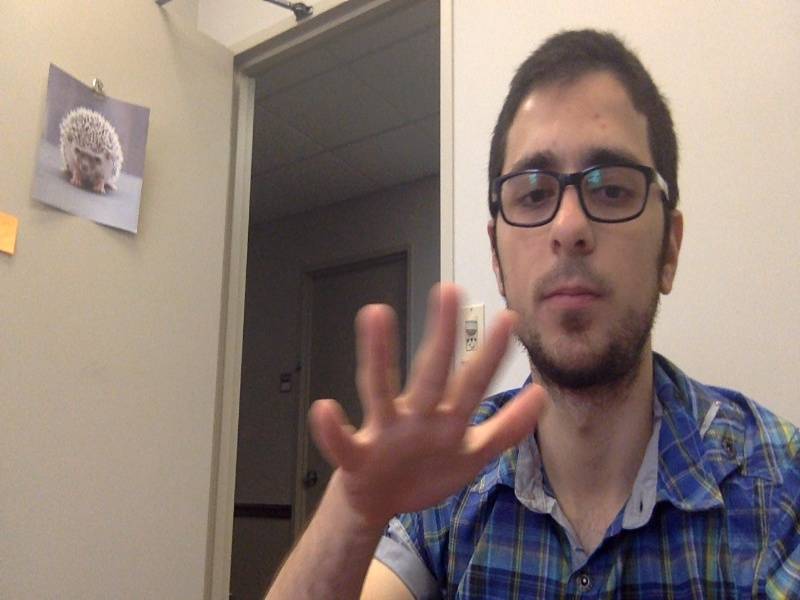5-hand: (309, 286, 550, 527)
